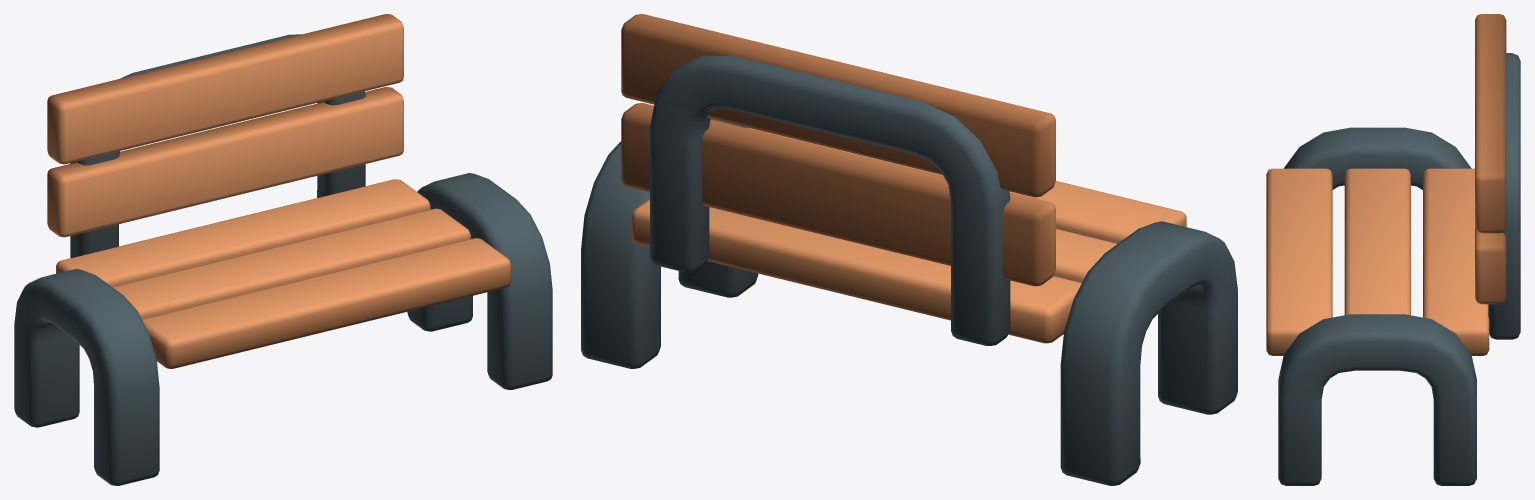
The model's file is mct_prop_bench.fbx.
The picture shows the model from 3 angles, left to right: view 1: azimuth 30°, elevation 25°; view 2: azimuth 150°, elevation 25°; view 3: azimuth 270°, elevation 25°; orthographic projection. The views are drawn at different scales.
Parts seen in each view (by area): view 1: mct_bench; view 2: mct_bench; view 3: mct_bench.
Boxes of the visible parts, <box> form: mct_bench: <box>14,14,552,485</box>; mct_bench: <box>581,14,1237,485</box>; mct_bench: <box>1266,14,1520,485</box>.
Bounding box in the file's own units: 154 × 99.25 × 78.8.
